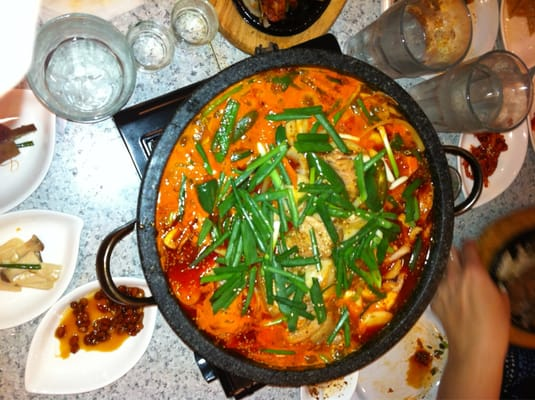sushi: (0, 209, 84, 330), (210, 0, 349, 55), (0, 83, 56, 215)
